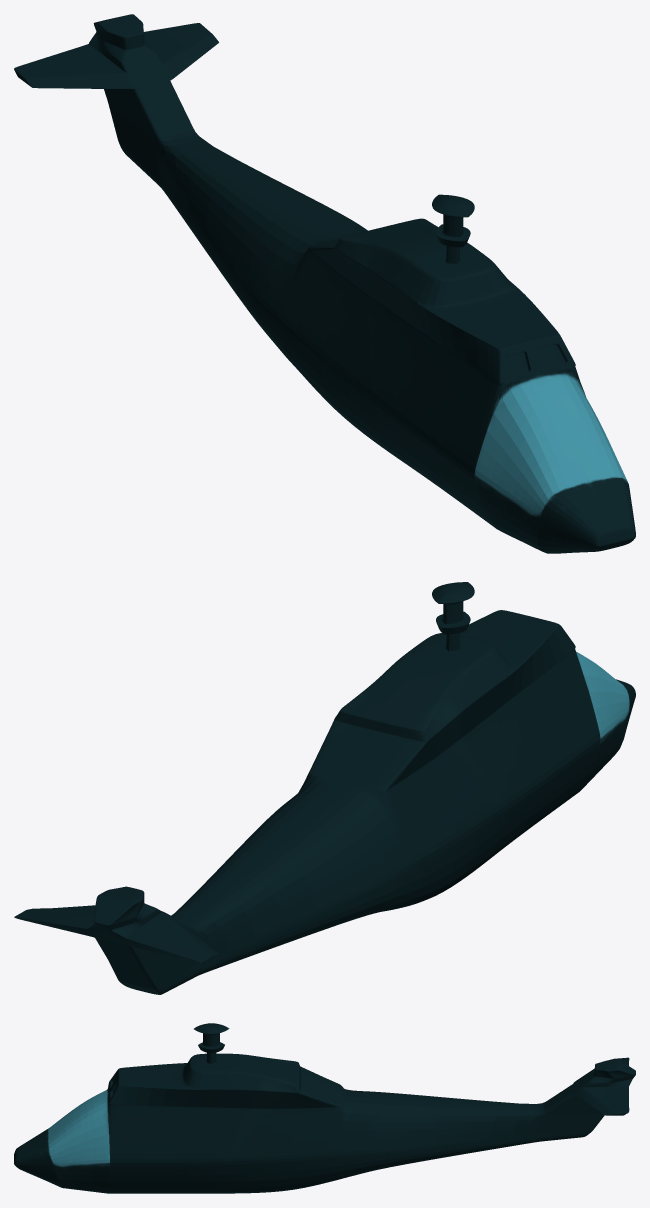
The model's file is heli.obj.
3 renders of one model, top to bottom at view 1: azimuth 30°, elevation 25°; view 2: azimuth 150°, elevation 25°; view 3: azimuth 270°, elevation 25°, orthographic. The views are drawn at different scales.
Parts seen in each view (by area): view 1: Cube; view 2: Cube; view 3: Cube.
Part boxes in pixels (x1,y1,x2,y2): Cube: (14,14,635,553); Cube: (14,582,635,994); Cube: (14,1023,635,1193).
Bounding box in the file's own units: 0.9869 × 1.35 × 4.71.
Materials: 1 (1 with a texture image).
